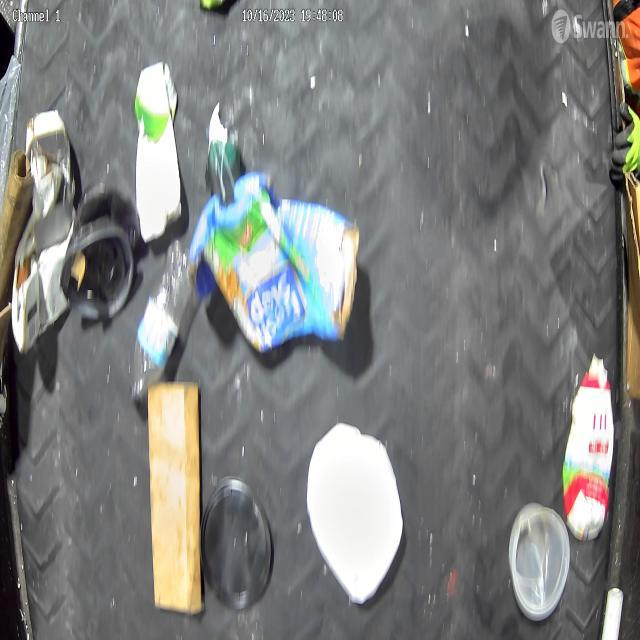plastic_bottle: (130, 240, 197, 403)
